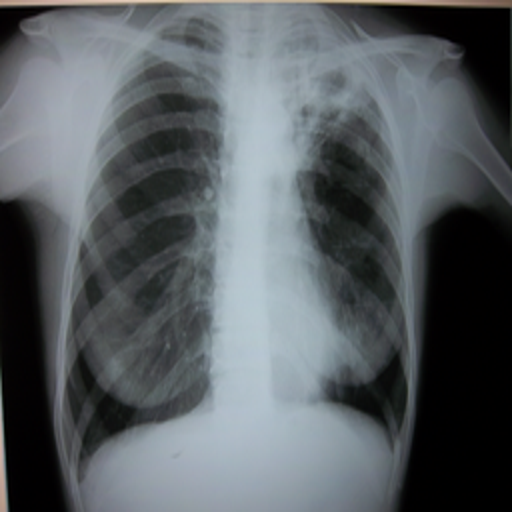TB: (292, 38, 367, 129)
